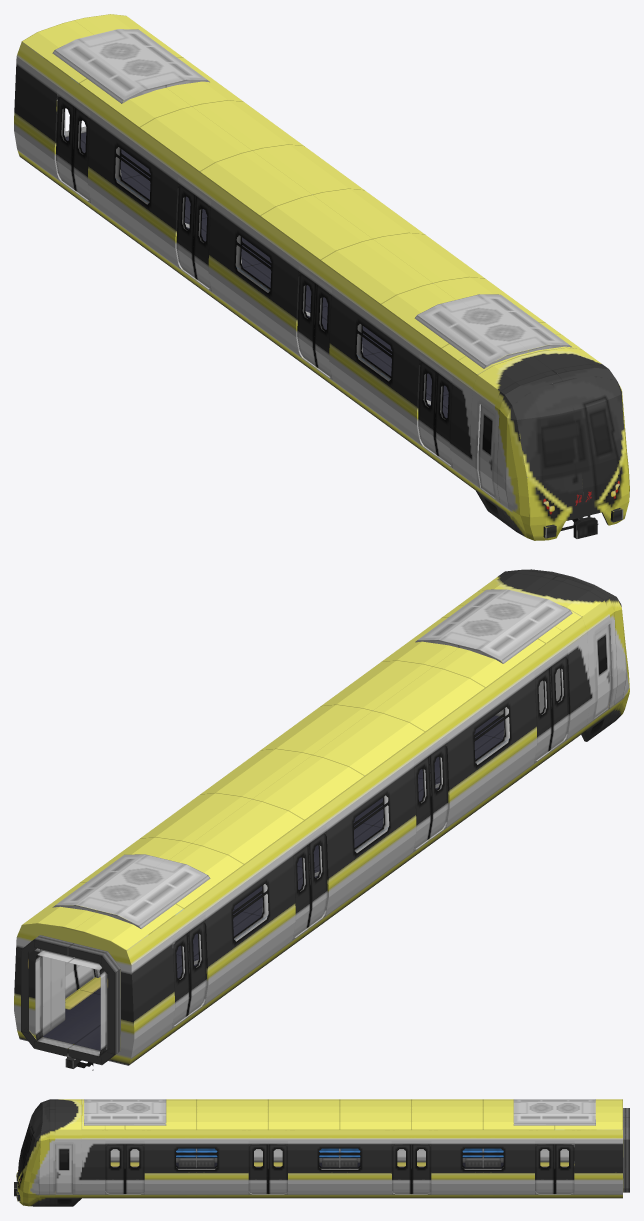
Rendered from zbm_15.obj.
3 views of the same model, one above another, from view 1: azimuth 30°, elevation 25°; view 2: azimuth 150°, elevation 25°; view 3: azimuth 270°, elevation 25° (orthographic). The views are drawn at different scales.
Visible parts, largest first — view 1: window_exterior, head_exterior, end_exterior, door_right_negative_exterior, door_right_positive_exterior, window; view 2: window_exterior, end_exterior, head_exterior, end, door_right_positive_exterior, window, door_right_negative_exterior, head; view 3: window_exterior, head_exterior, end_exterior, door_left_negative_exterior, door_left_positive_exterior, window, door_right_positive, door_right_negative.
Part boxes in pixels (x1,y1,x2,y2): window_exterior: [52, 29, 571, 463]; head_exterior: [436, 322, 629, 540]; end_exterior: [14, 14, 182, 198]; door_right_negative_exterior: [56, 97, 437, 455]; door_right_positive_exterior: [72, 107, 452, 465]; window: [115, 106, 448, 418]; window_exterior: [52, 589, 572, 1023]; end_exterior: [14, 882, 188, 1070]; head_exterior: [441, 569, 629, 758]; end: [35, 949, 107, 1056]; door_right_positive_exterior: [187, 657, 568, 1015]; window: [79, 707, 509, 994]; door_right_negative_exterior: [173, 668, 552, 1025]; head: [475, 668, 560, 739]; window_exterior: [84, 1099, 595, 1198]; head_exterior: [14, 1099, 124, 1206]; end_exterior: [554, 1099, 629, 1198]; door_left_negative_exterior: [125, 1144, 574, 1193]; door_left_positive_exterior: [105, 1144, 554, 1193]; window: [130, 1148, 549, 1169]; door_right_positive: [110, 1149, 549, 1162]; door_right_negative: [130, 1149, 568, 1162].
Bounding box in the file's own units: 2.88 × 3.41 × 21.5.
Materials: 4 (4 with a texture image).
